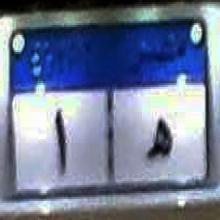1: (50, 103, 72, 177)
haa: (142, 109, 173, 168)
